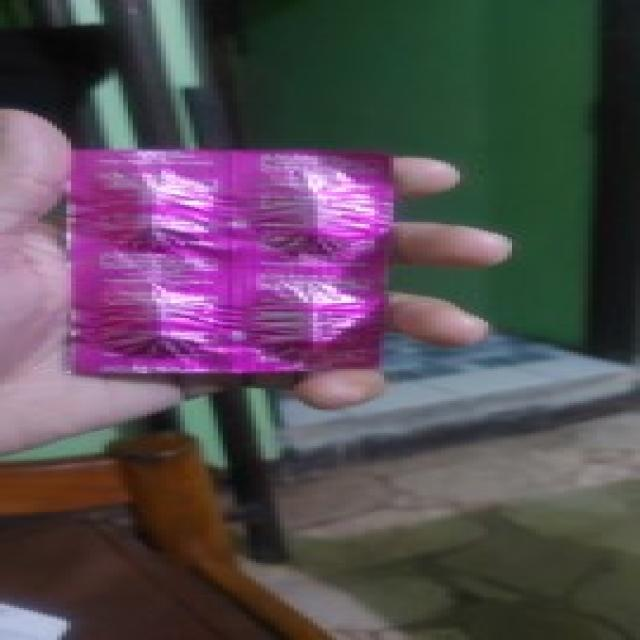Cacat: (70, 149, 393, 369)
